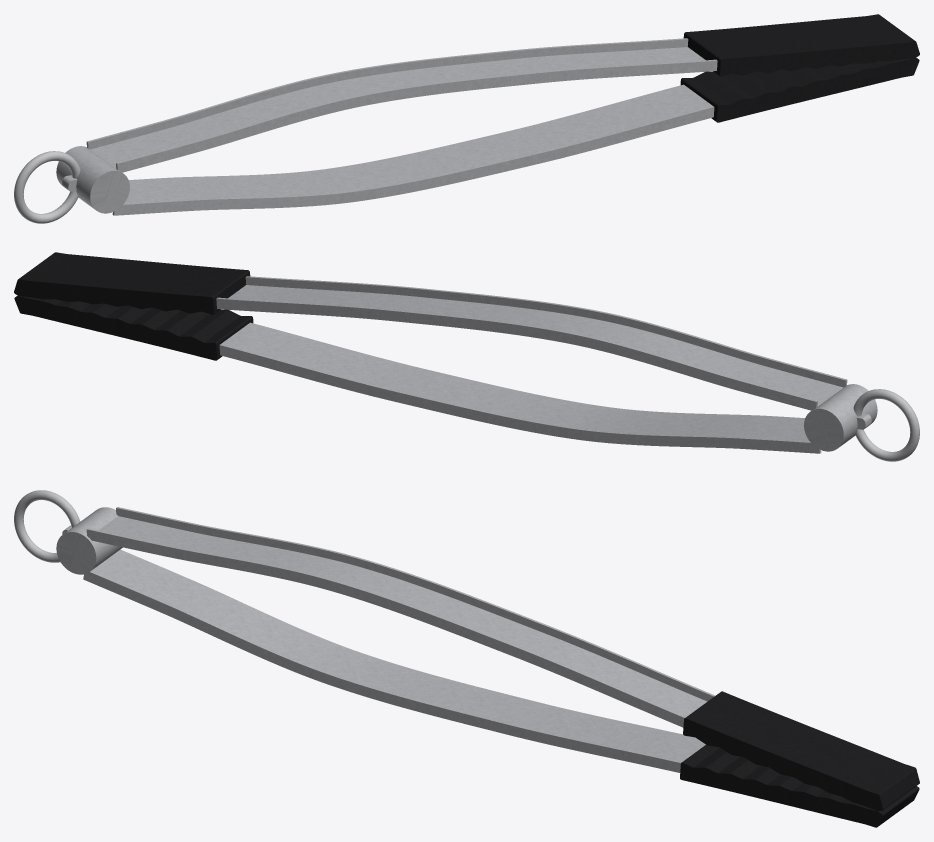
File: source.glb
3 views of the same model, one above another, from view 1: azimuth 30°, elevation 25°; view 2: azimuth 150°, elevation 25°; view 3: azimuth 330°, elevation 25° (orthographic).
Parts seen in each view (by area): view 1: Tong arm, upper, stainless steel, Tong arm, lower, stainless steel, Silicone head, upper, black, Silicone head, lower, black, Hinge barrel, stainless steel, Pull ring lock, stainless steel; view 2: Tong arm, upper, stainless steel, Tong arm, lower, stainless steel, Silicone head, upper, black, Silicone head, lower, black, Hinge barrel, stainless steel, Pull ring lock, stainless steel; view 3: Tong arm, lower, stainless steel, Tong arm, upper, stainless steel, Silicone head, upper, black, Silicone head, lower, black, Hinge barrel, stainless steel, Pull ring lock, stainless steel.
Part boxes in pixels (x1,y1,x2,y2): Tong arm, upper, stainless steel: (86, 38, 717, 172); Tong arm, lower, stainless steel: (112, 84, 714, 215); Silicone head, upper, black: (683, 14, 919, 76); Silicone head, lower, black: (680, 57, 919, 122); Hinge barrel, stainless steel: (56, 146, 129, 213); Pull ring lock, stainless steel: (14, 151, 80, 223); Tong arm, upper, stainless steel: (216, 276, 847, 410); Tong arm, lower, stainless steel: (219, 322, 821, 453); Silicone head, upper, black: (14, 252, 250, 314); Silicone head, lower, black: (14, 295, 253, 360); Hinge barrel, stainless steel: (804, 384, 877, 451); Pull ring lock, stainless steel: (853, 389, 919, 461); Tong arm, lower, stainless steel: (83, 549, 705, 772); Tong arm, upper, stainless steel: (86, 507, 715, 727); Silicone head, upper, black: (683, 691, 919, 811); Silicone head, lower, black: (680, 745, 919, 827); Hinge barrel, stainless steel: (56, 507, 122, 574); Pull ring lock, stainless steel: (14, 490, 80, 562).
Bounding box in the file's own units: 0.3336 × 0.0418 × 0.024.
3 materials, 3 textured.
